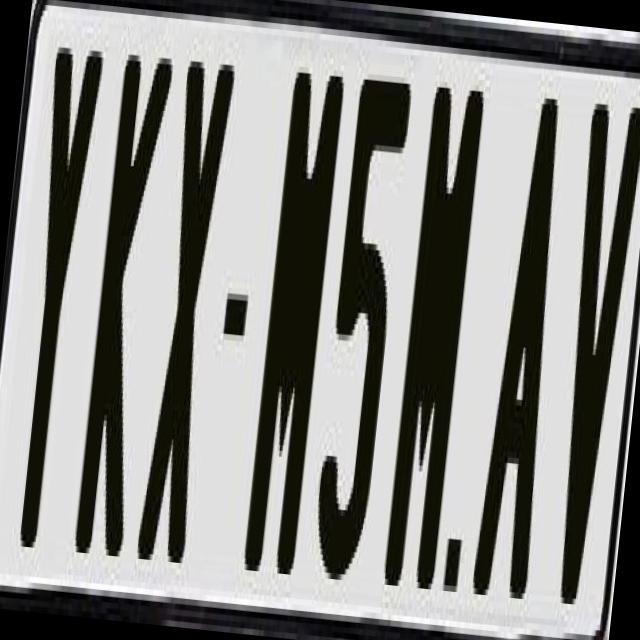5: (304, 78, 414, 605)
A: (469, 84, 582, 605)
K: (71, 48, 171, 556)
M: (237, 71, 347, 598), (384, 69, 494, 584)
V: (542, 85, 640, 589)
X: (136, 55, 238, 558)
Y: (1, 35, 110, 568)
